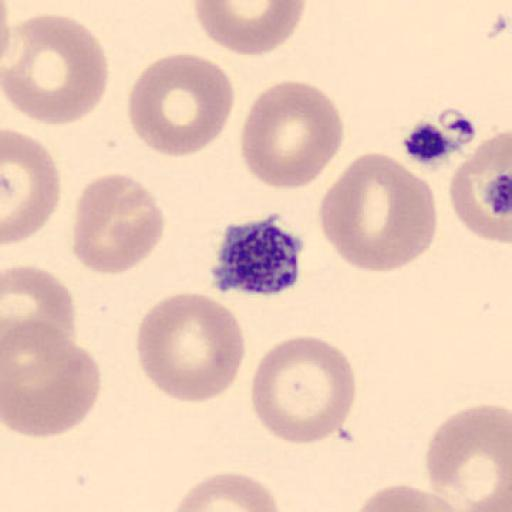Platelet: (207, 213, 306, 298)
RBC: (318, 151, 439, 274), (134, 291, 247, 404), (1, 13, 110, 127), (2, 317, 102, 439), (250, 336, 358, 446), (125, 52, 235, 158), (240, 80, 345, 191), (72, 170, 166, 276), (424, 403, 512, 511), (448, 130, 512, 247), (2, 128, 61, 246), (1, 264, 77, 354), (192, 0, 307, 56), (167, 469, 283, 512), (352, 482, 467, 512), (459, 481, 512, 512)
